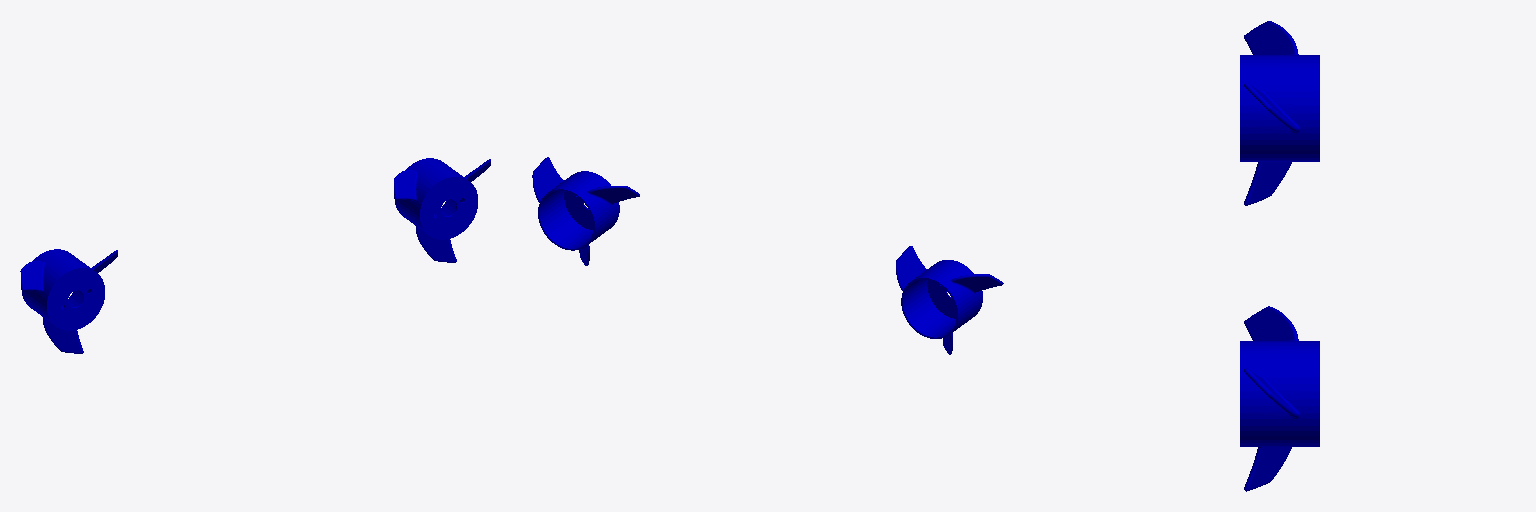
robot.urdf — yurtbot:
<robot name="yurtbot">

  <material name="white">
    <color rgba="1 1 1 1"/>
  </material>

  <material name="blue">
    <color rgba="0 0 0.8 1"/>
  </material>

  <link name="base_link">
    <visual>
      <geometry>
        <mesh filename="package://urdf_tutorial/meshes/body_v1.STL"/>
      </geometry>
      <origin rpy="1.57075 0 0" xyz="0 0 0"/>
      <material name="white"/>
    </visual>
    <collision>
      <geometry>
        <mesh filename="package://urdf_tutorial/meshes/body_v1.STL"/>
      </geometry>
      <origin rpy="1.57075 0 0" xyz="0 0 0"/>
    </collision>
    <inertial>
    	<mass value="5"/>
    	<inertia ixx="0.4" ixy="0.0" ixz="0.0" iyy="0.4" iyz="0.0" izz="0.2"/>
    </inertial>
  </link>
  
  <joint name="prop_joint1" type="continuous">
    <parent link="base_link"/>
    <child link="prop1"/>
    <origin xyz="-0.12713 -0.07122 -0.05281" rpy="0 0 0" />
    <axis xyz="0 1 0" />
  </joint>

  <link name="prop1">
    <visual>
      <geometry>
        <mesh filename="package://urdf_tutorial/meshes/prop_m_v1.STL"/>
      </geometry>
      <origin rpy="1.57075 0 0" xyz="0 0 0"/>
      <material name="blue"/>
    </visual>
    <collision>
      <geometry>
        <mesh filename="package://urdf_tutorial/meshes/prop_m_v1.STL"/>
      </geometry>
      <origin rpy="1.57075 0 0" xyz="0 0 0"/>
    </collision>
    <inertial>
    	<mass value="5"/>
    	<inertia ixx="0.4" ixy="0.0" ixz="0.0" iyy="0.4" iyz="0.0" izz="0.2"/>
    </inertial>
  </link>

    <joint name="prop_joint2" type="continuous">
    <parent link="base_link"/>
    <child link="prop2"/>
    <origin xyz="0.12713 -0.07122 -0.05281" rpy="0 0 0" />
    <axis xyz="0 1 0" />
  </joint>

  <link name="prop2">
    <visual>
      <geometry>
        <mesh filename="package://urdf_tutorial/meshes/prop_m_v1.STL"/>
      </geometry>
      <origin rpy="1.57075 0 0" xyz="0 0 0"/>
      <material name="blue"/>
    </visual>
    <collision>
      <geometry>
        <mesh filename="package://urdf_tutorial/meshes/prop_m_v1.STL"/>
      </geometry>
      <origin rpy="1.57075 0 0" xyz="0 0 0"/>
    </collision>
    <inertial>
    	<mass value="5"/>
    	<inertia ixx="0.4" ixy="0.0" ixz="0.0" iyy="0.4" iyz="0.0" izz="0.2"/>
    </inertial>
  </link>

  </robot>

--- Facts derived from the render (not from the file) ---
3 views of the same robot in one strip: view 1: azimuth 30°, elevation 25°; view 2: azimuth 150°, elevation 25°; view 3: azimuth 270°, elevation 25° (orthographic).
Robot: yurtbot — 3 links, 2 joints (2 continuous); root link base_link; default pose: all joints at 0.
Visible links, largest first — view 1: prop2, prop1; view 2: prop1, prop2; view 3: prop1, prop2.
Link boxes in pixels (left/top/right/bottom): prop2: left=394, top=158, right=490, bottom=262; prop1: left=20, top=249, right=117, bottom=353; prop1: left=896, top=246, right=1003, bottom=354; prop2: left=532, top=157, right=639, bottom=265; prop1: left=1240, top=21, right=1319, bottom=205; prop2: left=1240, top=306, right=1319, bottom=491.
Size in the robot's own frame: 0.3244 by 0.03 by 0.0623 metres.
Meshes: 2 distinct files referenced, 2 mesh visuals loaded (1 binary STL); not drawn: 1 (reference not matched to a file when rendering).